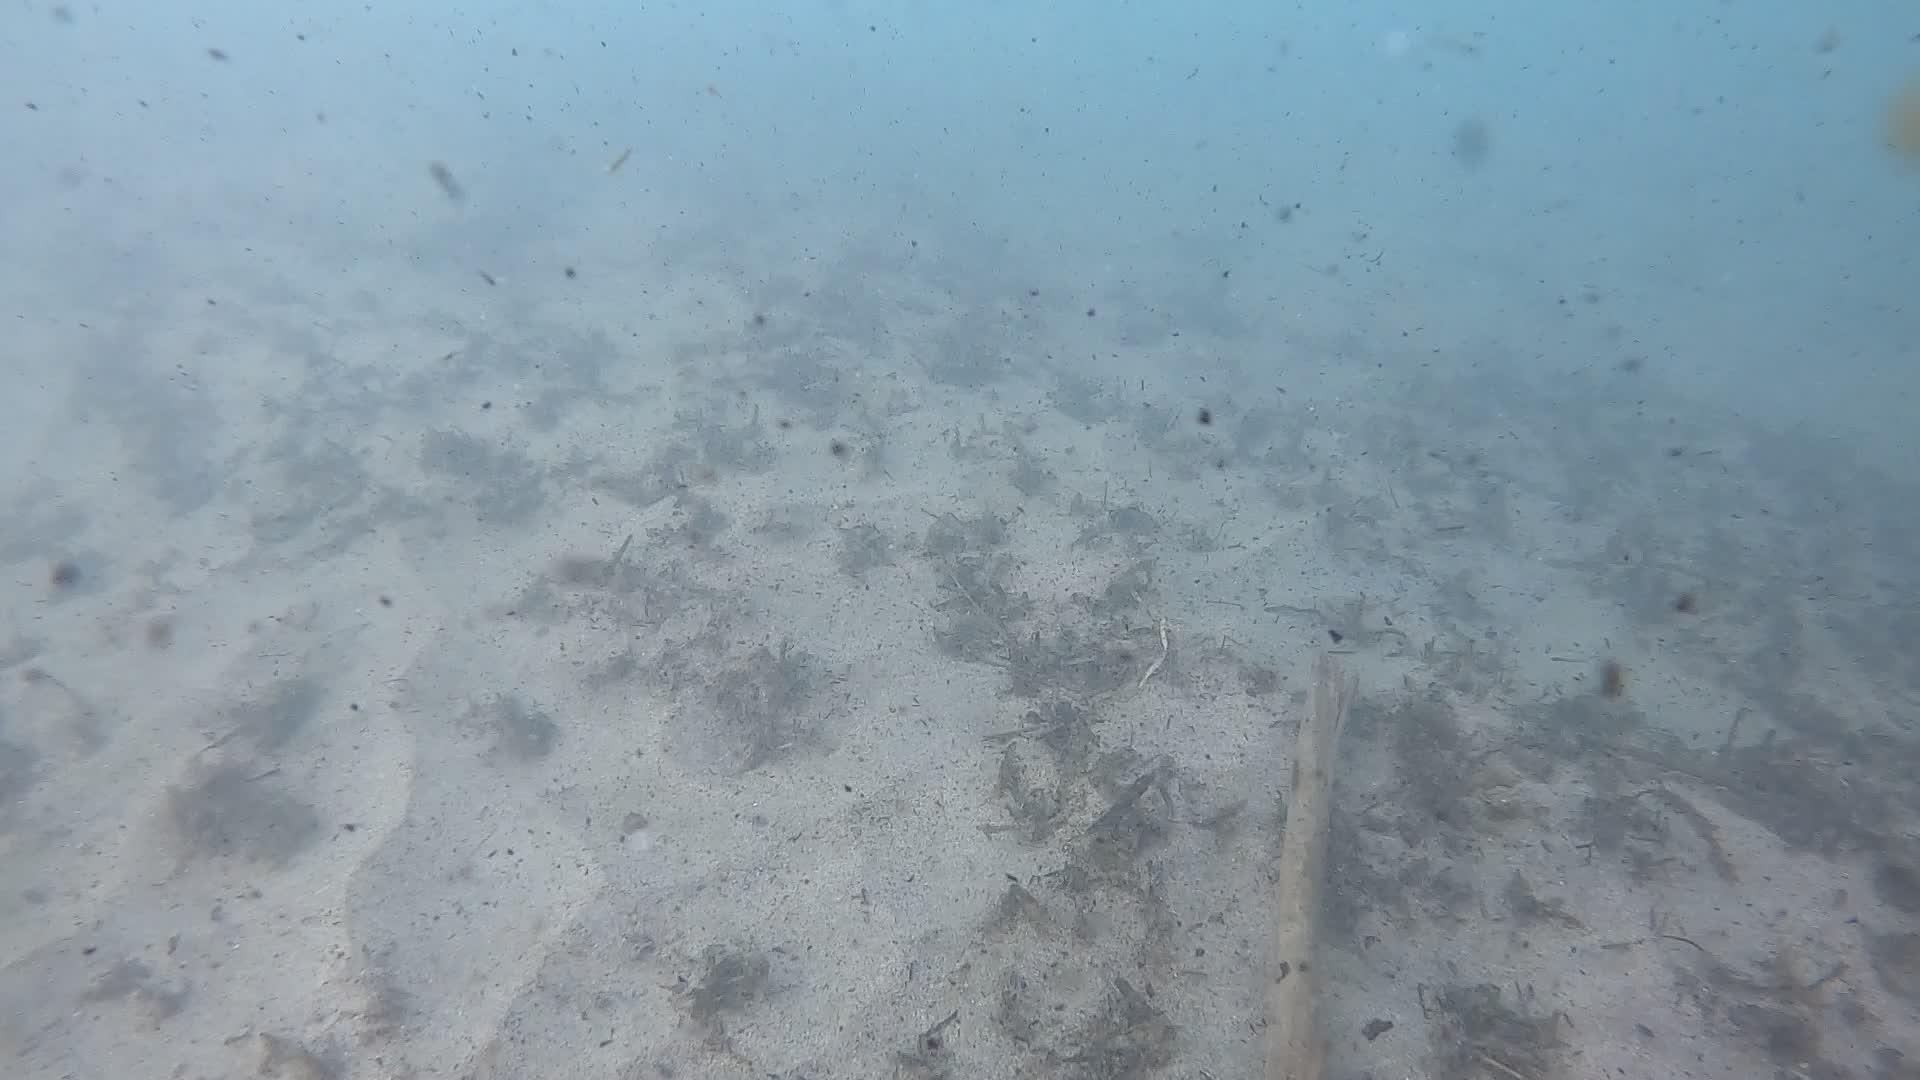wood: (1275, 651, 1358, 1080)
